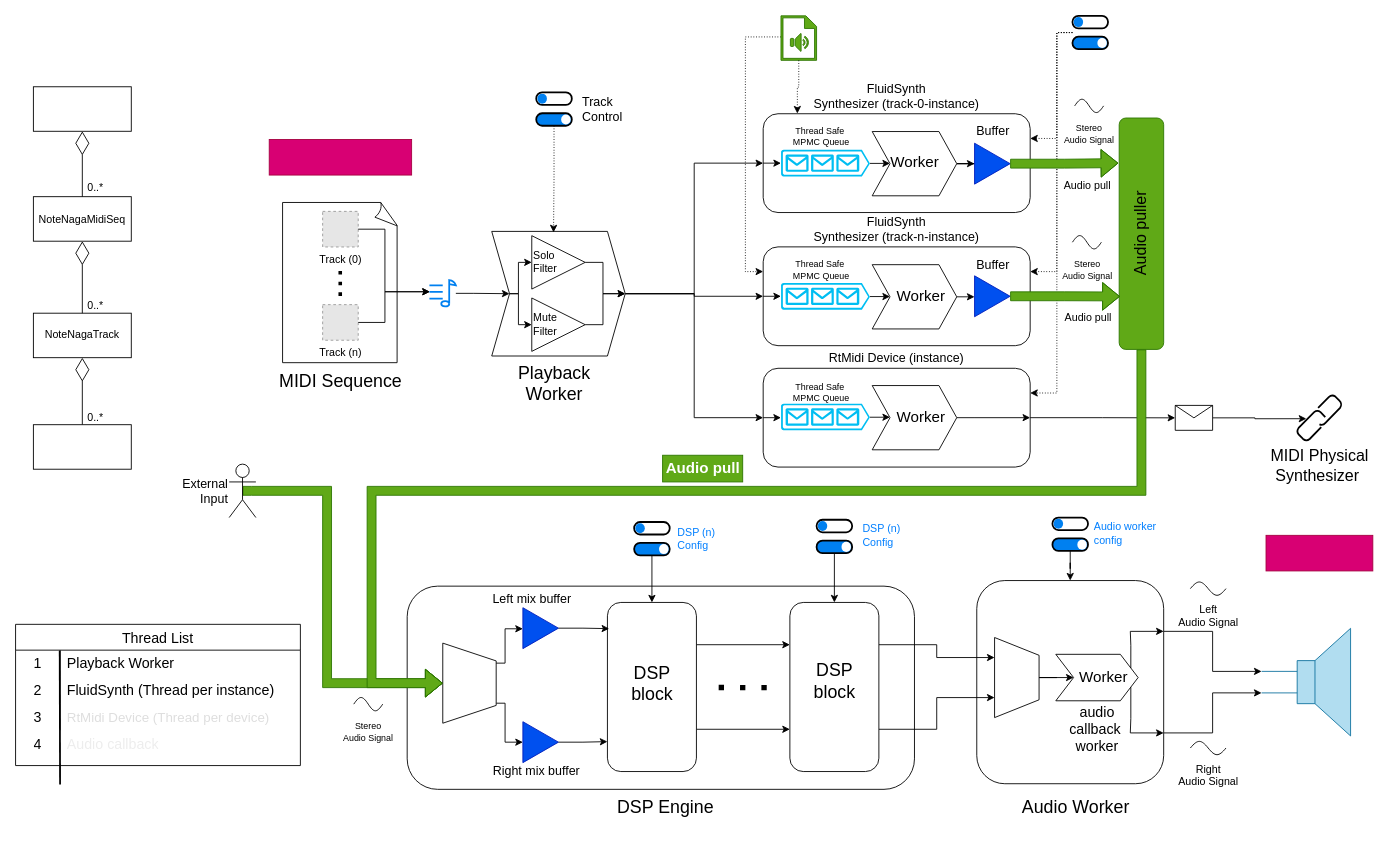
This 1388x841 diagram has some shape labels left out. Grey dashed boxes stand in for pictures. The shapes that lost their labels are listed below. From the top down, each one's centre as x and y in pixels, then its label:
point 798,37: Sound Font
point 1089,32: Settings
point 81,108: NoteNagaProject
point 340,157: MAIN INPUT
point 442,293: Note
point 1193,417: MIDI Message
point 81,446: NN_Note_t
point 1319,552: OUTPUT
point 469,682: Mix all synth or single
point 1016,677: Mix
point 1306,681: Audio Output
